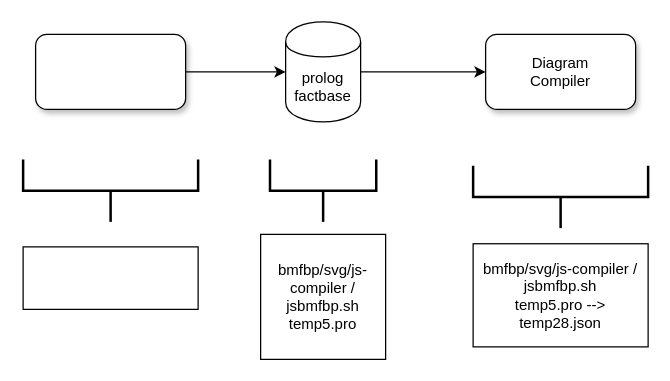
This 670x381 diagram has some shape labels left out. The centre of each missing label's shape, as x and y in pixels:
"bmfbp/svg/js-compiler / jsbmfbp.sh" belongs at point (110, 277).
"Create Factbase from SVG" belongs at point (111, 73).
